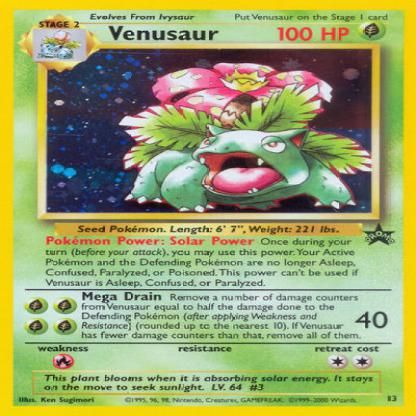Venusaur: (116, 57, 372, 215)
